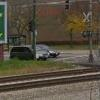Car: (9, 40, 72, 66)
